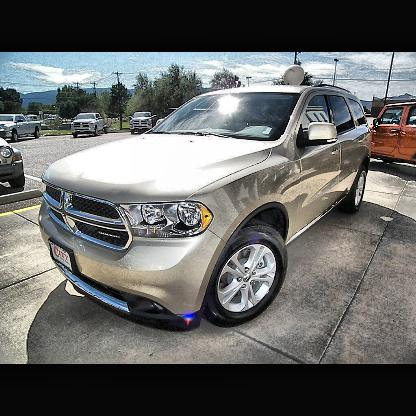Dodge Durango SUV 2012: (38, 85, 374, 334)
